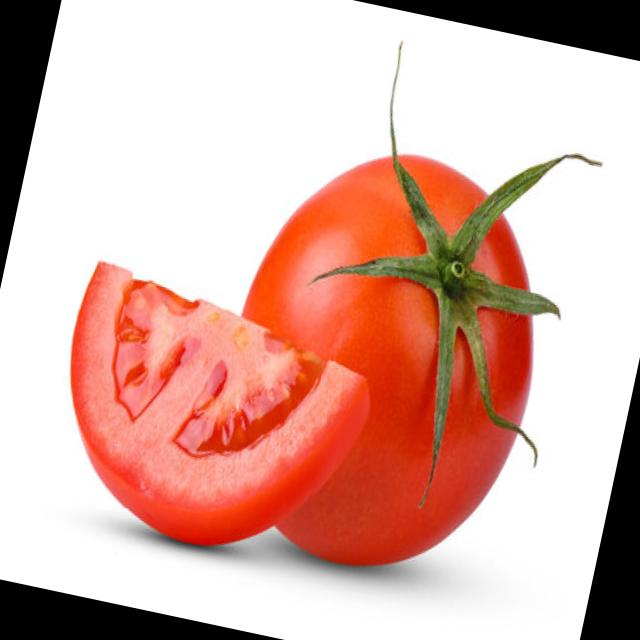tomato: (194, 122, 576, 600), (26, 251, 392, 578)
